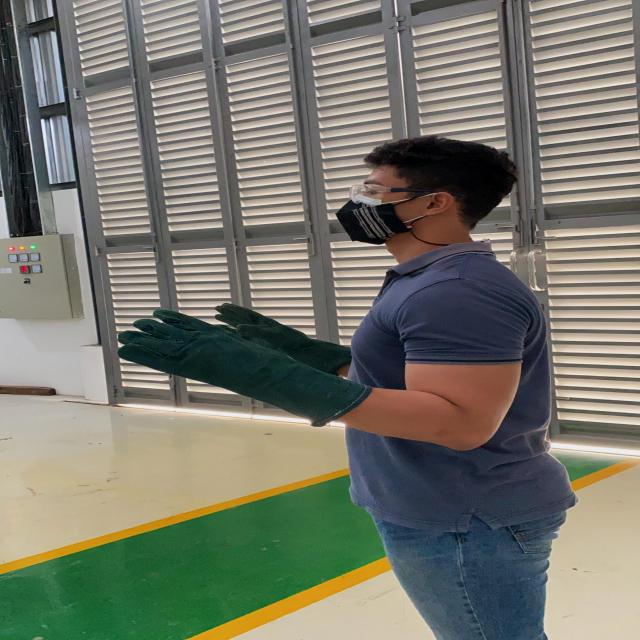face_mask: (331, 180, 425, 246)
glasses: (343, 180, 471, 208)
hand_glove: (107, 308, 265, 396), (205, 298, 318, 355)
head_nohelmet: (354, 132, 494, 174)
person: (250, 124, 601, 640)
